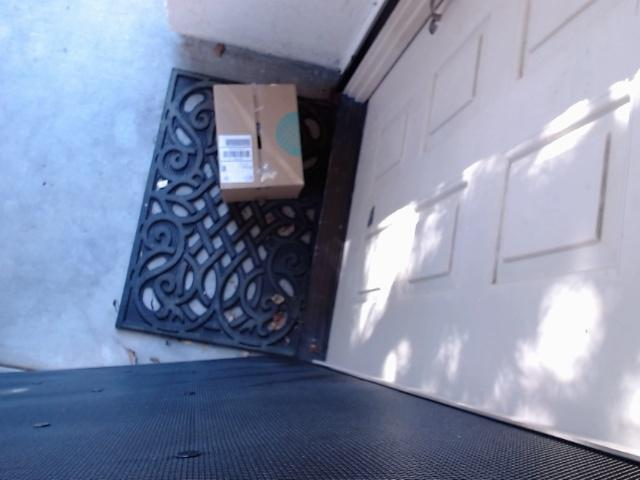box: (213, 84, 303, 202)
